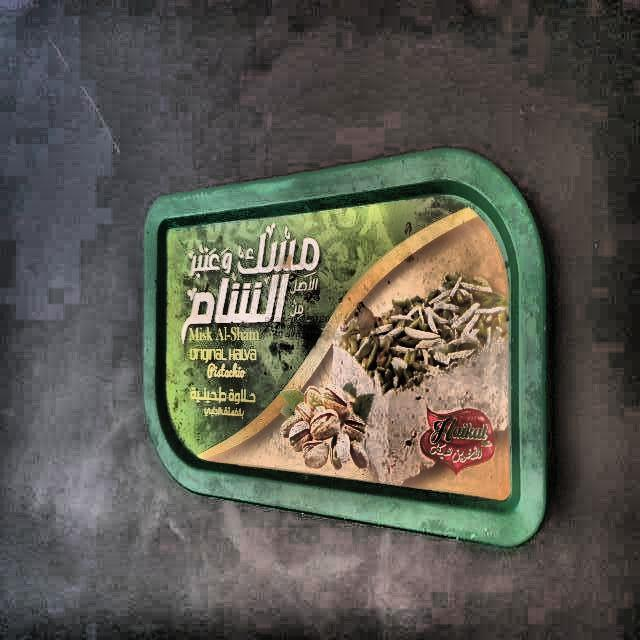plastic: (145, 150, 546, 545)
